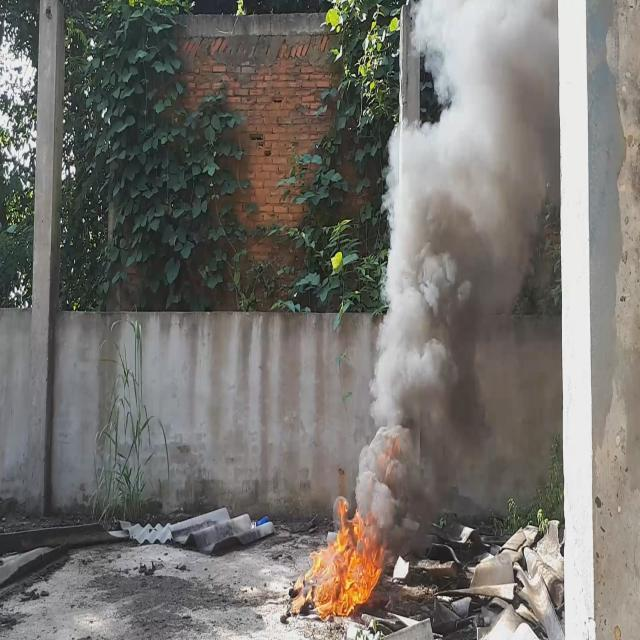Fire: (305, 502, 385, 614)
Smoke: (356, 0, 558, 549)
